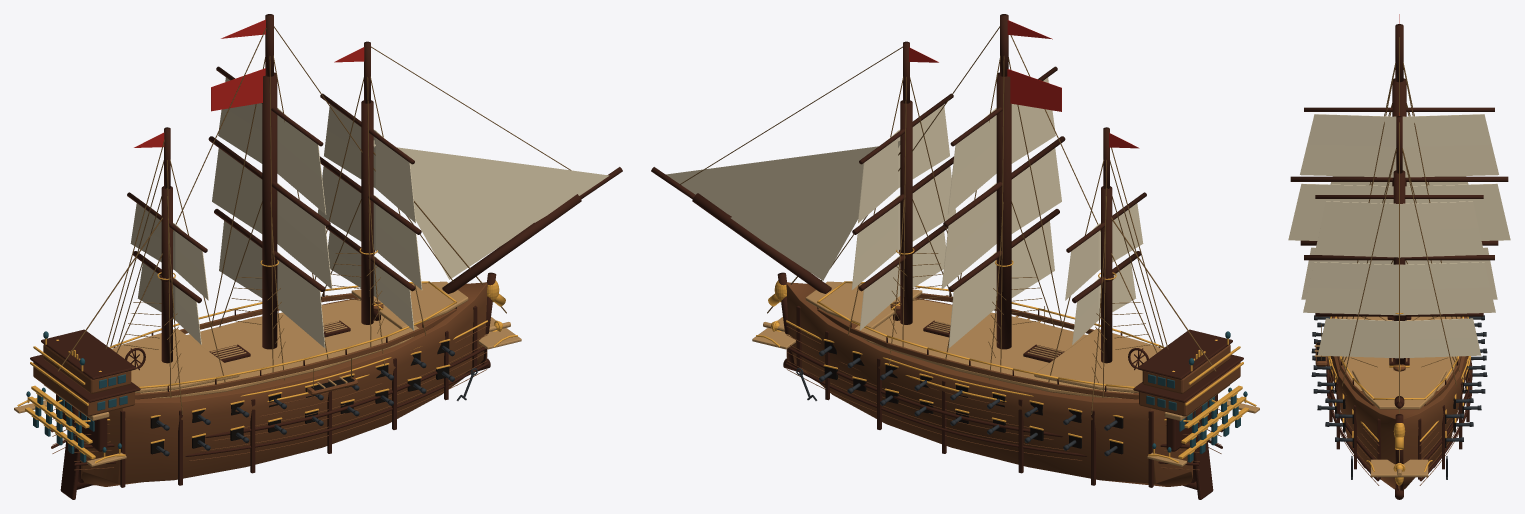
Rendered from AgeOfSailWarship_FirstRate_GalleonRefined.fbx.
3 views of the same model, side by side, from view 1: azimuth 30°, elevation 25°; view 2: azimuth 150°, elevation 25°; view 3: azimuth 270°, elevation 25° (orthographic). The views are drawn at different scales.
Visible parts, largest first — view 1: Hull_Main_Lofted.001, Deck_Upper_Main.001, Jib_Inner.001, Jib_Outer.001, Main_SquareSail_1.001, Main_SquareSail_0.001, Main_SquareSail_2.001, Fore_SquareSail_1.001, Deck_Quarterdeck.001, Fore_SquareSail_0.001, Main_Mast.001, Fore_Mast.001 (+19 smaller); view 2: Hull_Main_Lofted.001, Jib_Inner.001, Deck_Upper_Main.001, Jib_Outer.001, Main_SquareSail_1.001, Main_SquareSail_0.001, Main_SquareSail_2.001, Fore_SquareSail_1.001, Deck_Quarterdeck.001, Fore_SquareSail_0.001, Main_Mast.001, Fore_Mast.001 (+19 smaller); view 3: Main_SquareSail_0.001, Fore_SquareSail_1.001, Fore_SquareSail_0.001, Hull_Main_Lofted.001, Fore_SquareSail_2.001, Main_SquareSail_1.001, Deck_Forecastle.001, Deck_Upper_Main.001, Main_Yard_1.001, Main_SquareSail_2.001, Fore_Yard_1.001, Refined_FirstRate_BeakheadPlatform.001 (+13 smaller).
Part boxes in pixels (x1,y1,x2,y2): Hull_Main_Lofted.001: (81, 282, 487, 486); Deck_Upper_Main.001: (140, 299, 418, 398); Jib_Inner.001: (373, 140, 533, 279); Jib_Outer.001: (373, 144, 609, 222); Main_SquareSail_1.001: (212, 148, 332, 289); Main_SquareSail_0.001: (218, 77, 326, 214); Main_SquareSail_2.001: (219, 220, 325, 347); Fore_SquareSail_1.001: (318, 166, 422, 289); Deck_Quarterdeck.001: (111, 328, 239, 393); Fore_SquareSail_0.001: (324, 104, 415, 223); Main_Mast.001: (262, 72, 277, 349); Fore_Mast.001: (361, 100, 373, 324); Hull_Main_Lofted.001: (786, 282, 1192, 486); Jib_Inner.001: (730, 141, 900, 280); Deck_Upper_Main.001: (855, 299, 1133, 398); Jib_Outer.001: (666, 146, 878, 216); Main_SquareSail_1.001: (941, 148, 1061, 289); Main_SquareSail_0.001: (947, 77, 1055, 214); Main_SquareSail_2.001: (948, 220, 1054, 347); Fore_SquareSail_1.001: (851, 166, 955, 289); Deck_Quarterdeck.001: (1034, 328, 1162, 393); Fore_SquareSail_0.001: (858, 104, 949, 223); Main_Mast.001: (996, 72, 1011, 349); Fore_Mast.001: (900, 100, 912, 324); Main_SquareSail_0.001: (1300, 114, 1498, 177); Fore_SquareSail_1.001: (1303, 262, 1495, 315); Fore_SquareSail_0.001: (1314, 201, 1484, 257); Hull_Main_Lofted.001: (1330, 316, 1468, 490); Fore_SquareSail_2.001: (1317, 318, 1481, 358); Main_SquareSail_1.001: (1288, 183, 1510, 240); Deck_Forecastle.001: (1352, 370, 1446, 409); Deck_Upper_Main.001: (1338, 316, 1460, 390); Main_Yard_1.001: (1290, 176, 1508, 181); Main_SquareSail_2.001: (1301, 247, 1497, 299); Fore_Yard_1.001: (1304, 255, 1494, 260); Refined_FirstRate_BeakheadPlatform.001: (1370, 459, 1428, 477).
Size of the model in its own units: 3726 by 2705 by 1360.
